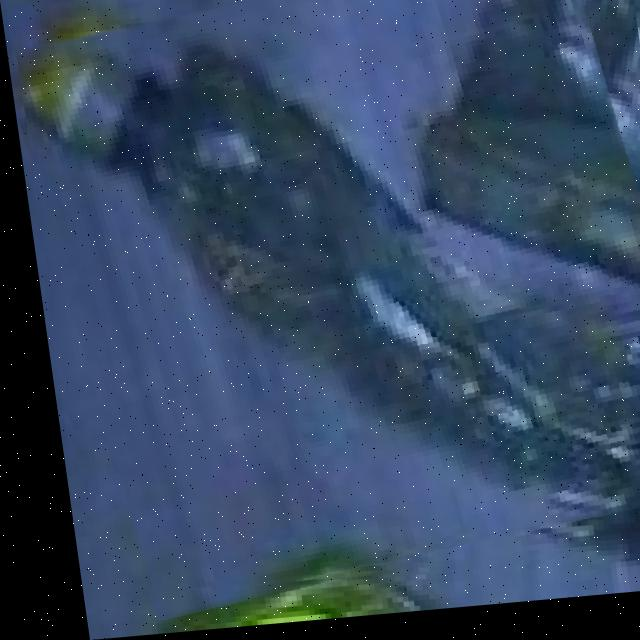plasticbottle: (9, 0, 640, 608), (376, 0, 640, 360)
